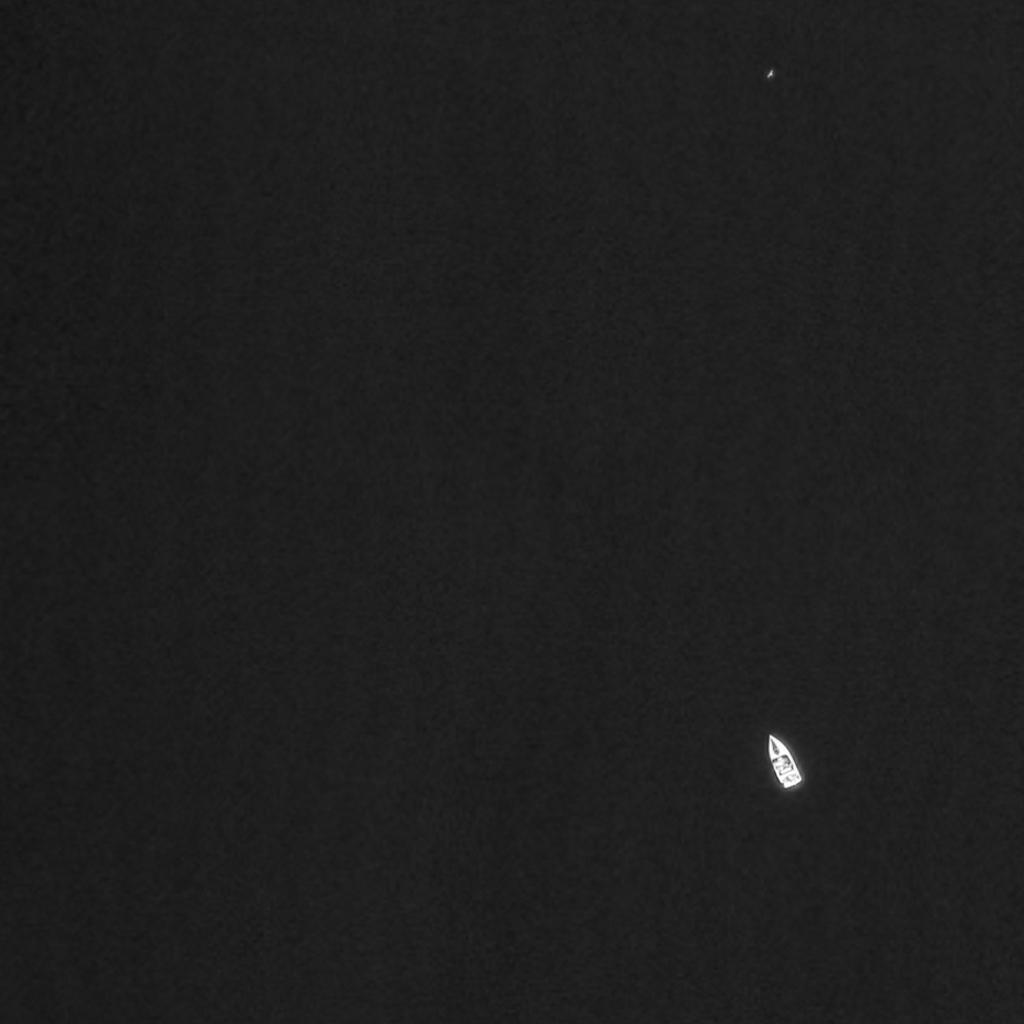vehicle: (762, 730, 804, 790)
